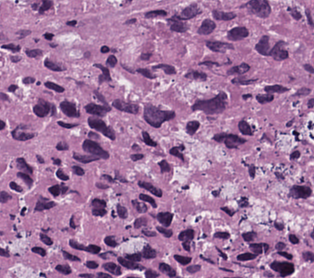nucleus: (191, 91, 227, 114), (143, 103, 174, 127), (167, 4, 201, 23), (87, 117, 115, 139), (82, 139, 109, 158), (213, 133, 245, 148), (245, 0, 270, 17), (33, 98, 54, 117), (112, 99, 138, 113), (270, 40, 288, 60), (11, 125, 35, 140), (138, 181, 161, 196), (94, 63, 111, 83), (59, 100, 79, 117), (85, 103, 110, 116), (206, 40, 233, 52), (255, 35, 270, 55), (227, 26, 248, 40), (34, 197, 55, 211), (16, 157, 33, 174), (73, 152, 98, 163), (197, 19, 215, 34), (212, 9, 236, 20), (227, 62, 249, 74), (44, 58, 63, 71), (153, 63, 175, 74), (139, 193, 156, 207), (169, 145, 184, 160), (238, 119, 252, 135), (156, 212, 172, 226), (184, 70, 206, 80), (44, 81, 64, 92), (264, 84, 288, 93), (142, 131, 156, 146), (17, 172, 32, 186), (170, 21, 188, 32), (38, 0, 52, 14), (178, 229, 194, 241), (94, 90, 107, 104), (186, 120, 199, 134), (136, 68, 154, 78), (132, 200, 147, 212), (144, 9, 166, 17), (156, 226, 172, 237), (69, 239, 85, 250), (1, 43, 20, 52), (256, 93, 273, 103), (231, 78, 257, 84), (116, 204, 127, 218), (25, 48, 42, 57), (158, 160, 170, 172), (48, 184, 60, 196), (40, 233, 52, 245), (9, 181, 22, 192), (134, 217, 147, 228), (57, 121, 77, 128), (242, 231, 256, 241), (91, 198, 106, 207), (56, 169, 68, 180), (115, 170, 126, 182), (0, 190, 11, 202), (104, 236, 117, 246), (72, 165, 84, 175), (101, 174, 116, 182), (221, 206, 234, 215), (16, 30, 30, 38), (106, 55, 116, 66), (199, 61, 220, 66), (214, 231, 229, 238), (238, 197, 248, 207), (92, 208, 106, 215), (56, 142, 68, 150), (130, 153, 143, 160), (142, 229, 155, 236), (22, 76, 34, 83), (275, 242, 285, 250), (249, 165, 255, 178), (95, 182, 108, 188), (140, 53, 151, 60), (44, 32, 53, 40), (274, 222, 283, 230), (10, 55, 20, 62), (70, 215, 75, 228), (0, 92, 8, 100), (100, 45, 109, 52), (8, 84, 17, 91), (60, 184, 67, 193), (182, 241, 189, 250), (36, 155, 44, 162), (125, 18, 136, 23), (66, 20, 76, 25), (132, 143, 139, 150), (52, 158, 60, 164), (242, 94, 251, 99), (32, 2, 38, 9), (89, 132, 97, 137), (0, 120, 4, 129), (212, 190, 219, 195), (21, 207, 25, 215)
